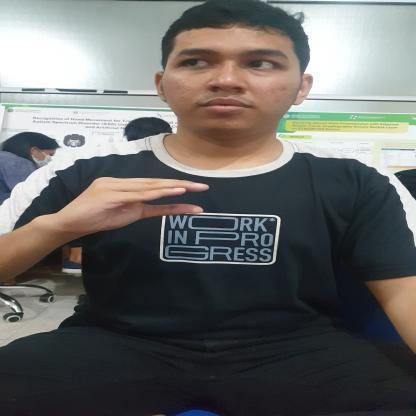Pagi: (32, 174, 212, 233)
